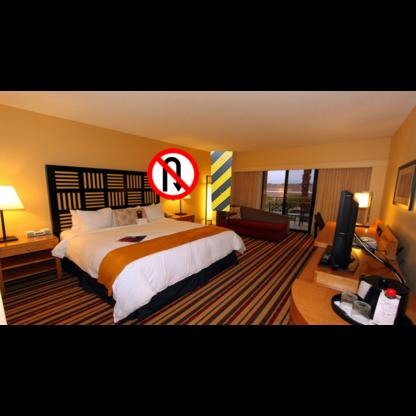O-MP: (211, 151, 232, 211)
